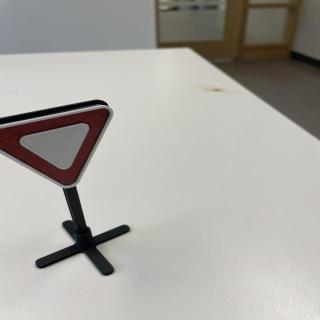duck_specialty: (1, 102, 120, 189)
sign_yield: (1, 102, 120, 191)
